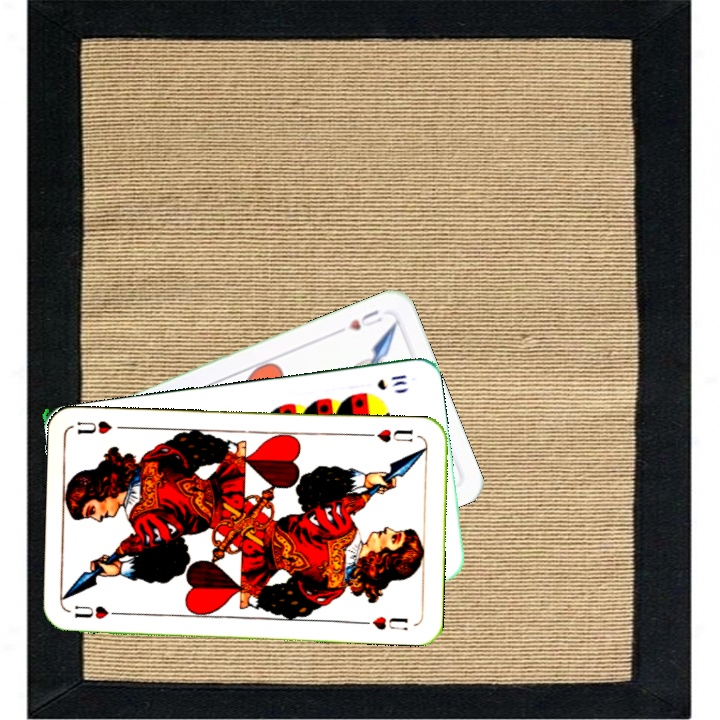HU: (344, 305, 385, 333), (70, 601, 127, 621), (373, 425, 415, 445)
S10: (373, 371, 409, 392)
